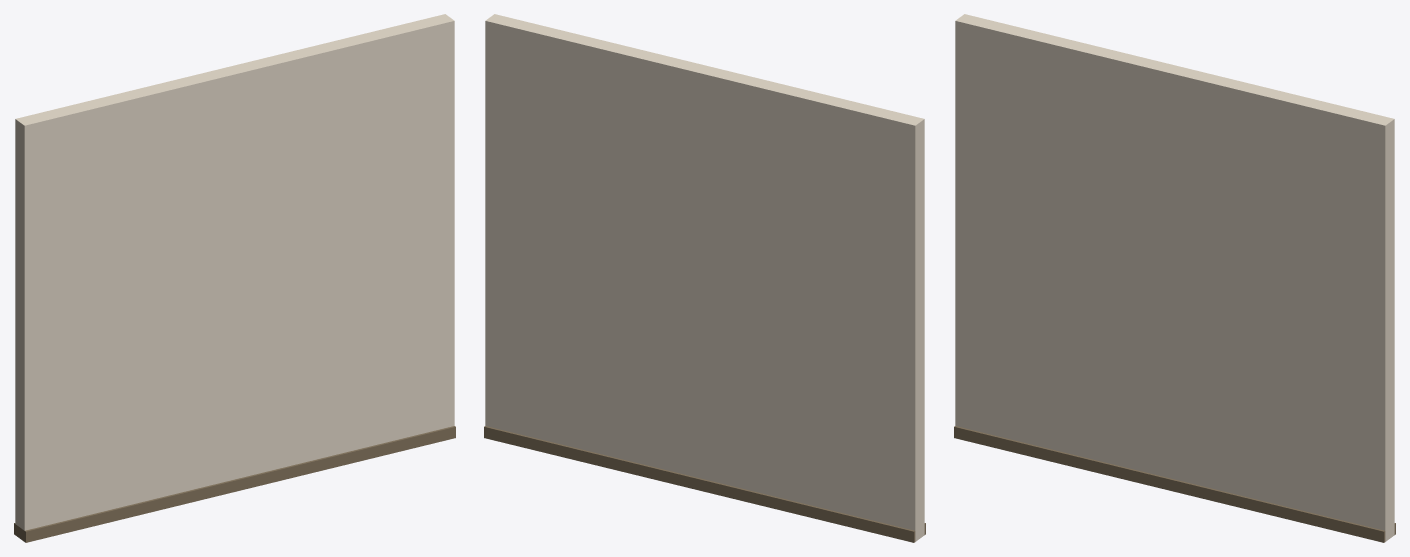
The model's file is city_partition_4.glb.
The picture shows the model from 3 angles, left to right: view 1: azimuth 30°, elevation 25°; view 2: azimuth 150°, elevation 25°; view 3: azimuth 330°, elevation 25°; orthographic projection.
Parts seen in each view (by area): view 1: CityPartition4_Wall, CityPartition4_Skirting; view 2: CityPartition4_Wall, CityPartition4_Skirting; view 3: CityPartition4_Wall, CityPartition4_Skirting.
Boxes of the visible parts, <box> form: CityPartition4_Wall: <box>15,14,454,537</box>; CityPartition4_Skirting: <box>14,426,455,542</box>; CityPartition4_Wall: <box>485,14,924,541</box>; CityPartition4_Skirting: <box>484,426,925,542</box>; CityPartition4_Wall: <box>955,14,1394,541</box>; CityPartition4_Skirting: <box>954,426,1395,542</box>.
Bounding box in the file's own units: 4 × 3.7 × 0.19.
